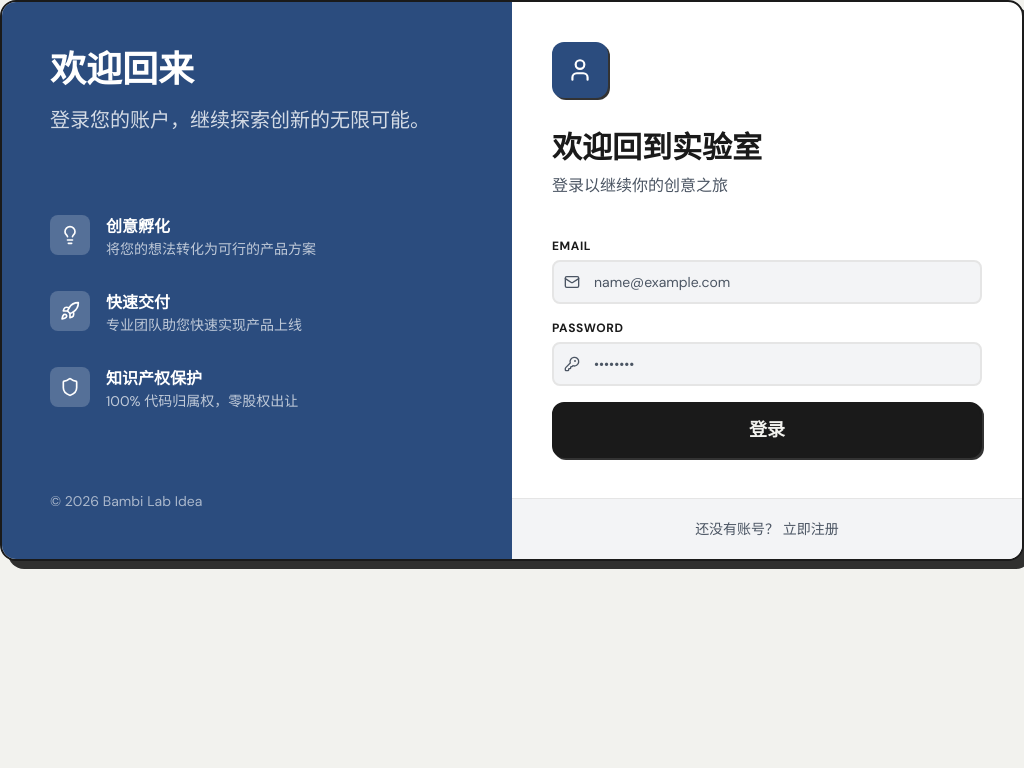
Test case: Login Page › shows error message from server action
In the field labelled "Email": (767, 282) [552,260,982,304], type "test@example.com"
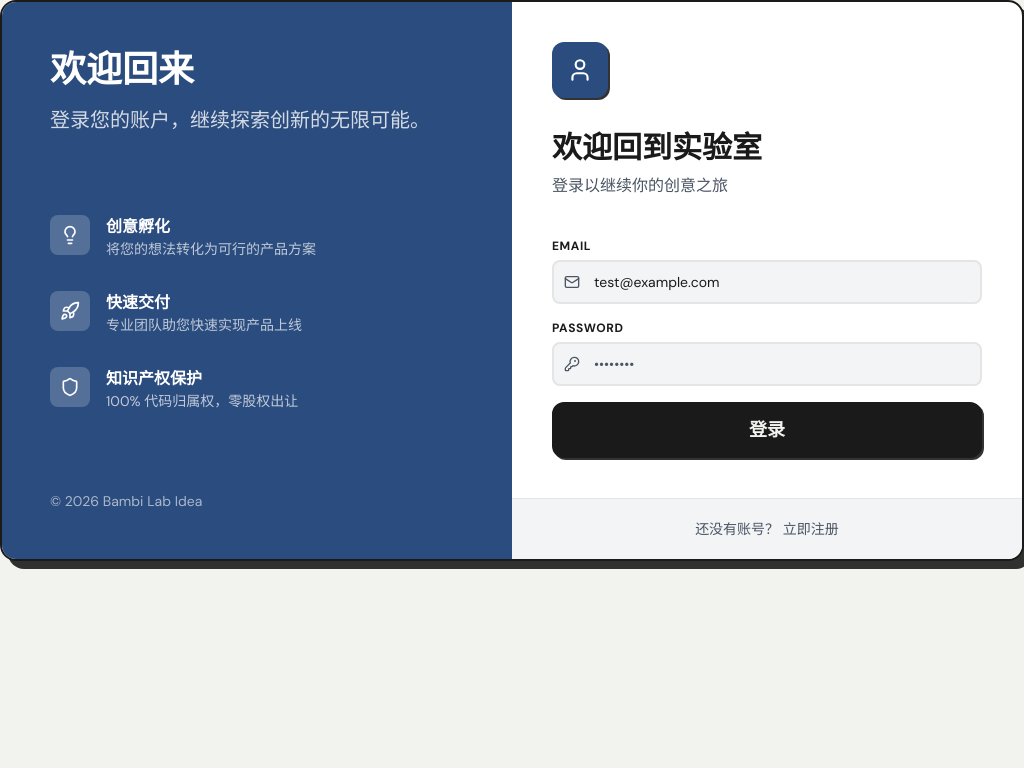
In the password field labelled "Password": (767, 364) [552,342,982,386], type "password123"
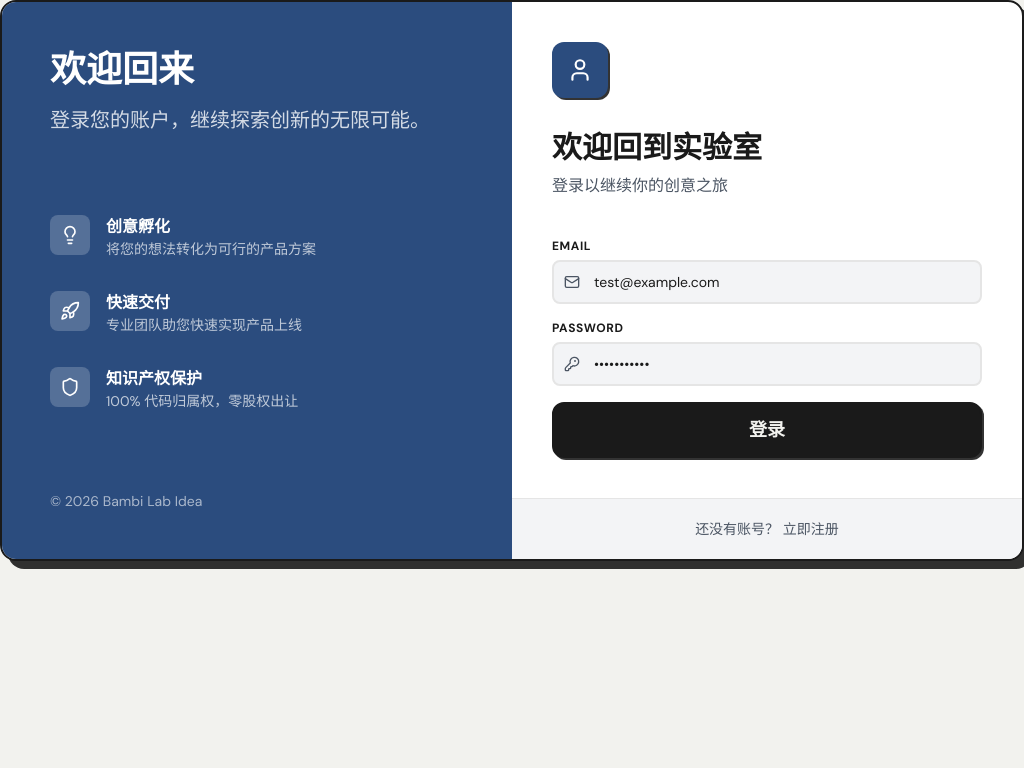
Click the button "登录": (767, 430) [552,402,982,458]
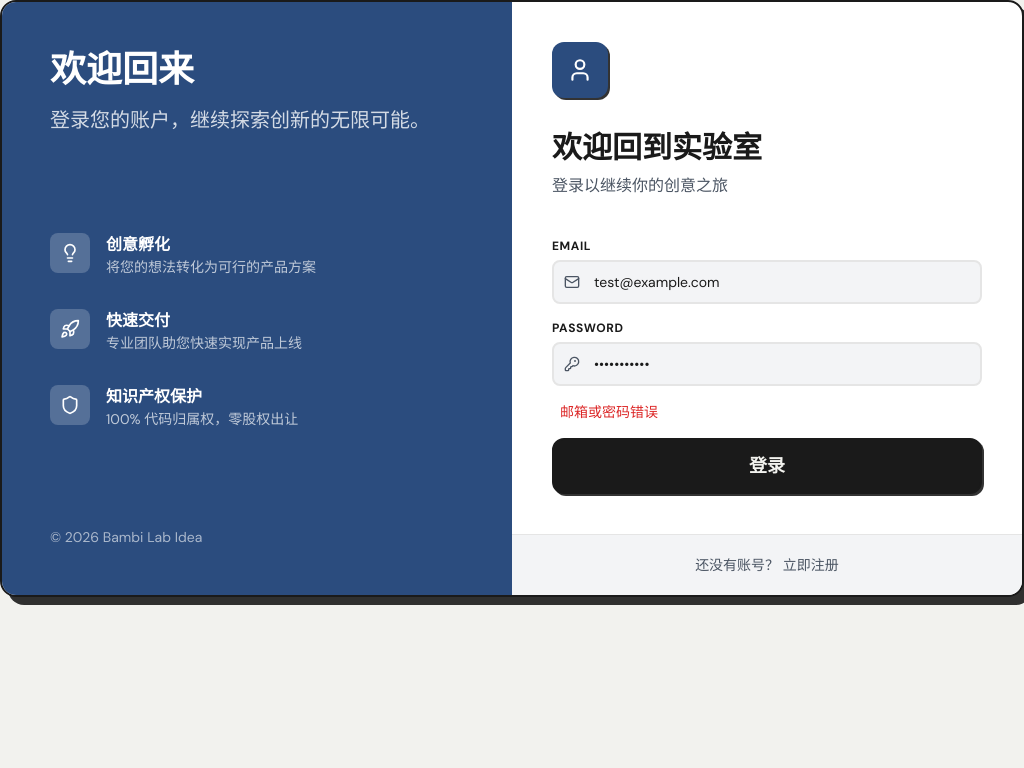
Expected: the text "邮箱或密码错误" is shown, [560,403,658,421]
